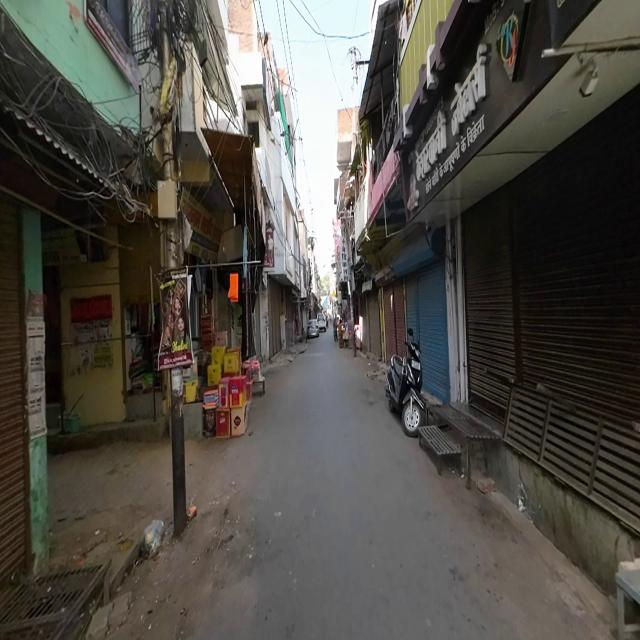Garbage: (142, 519, 166, 559)
